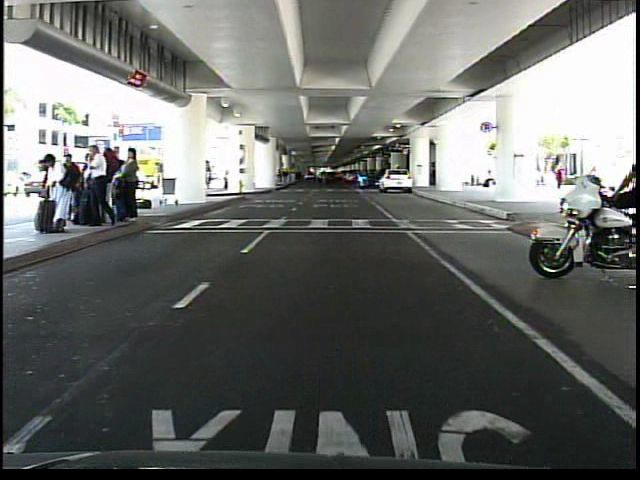person: (545, 156, 568, 195), (481, 163, 495, 195)
